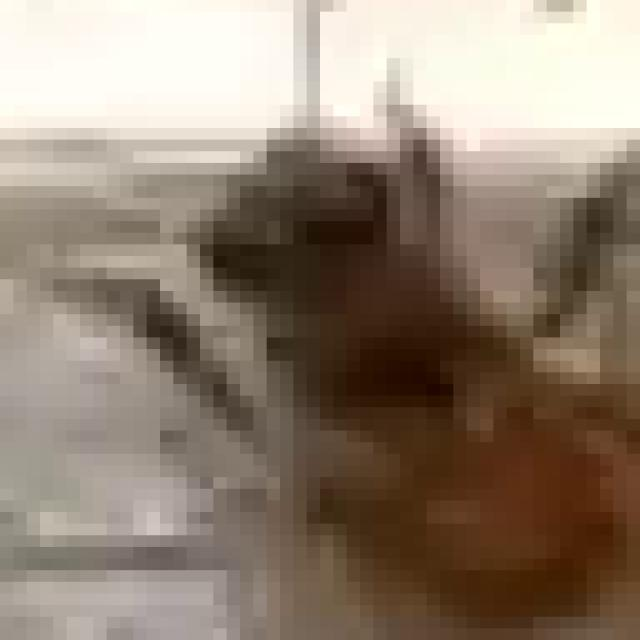honeybee: (173, 83, 638, 625)
